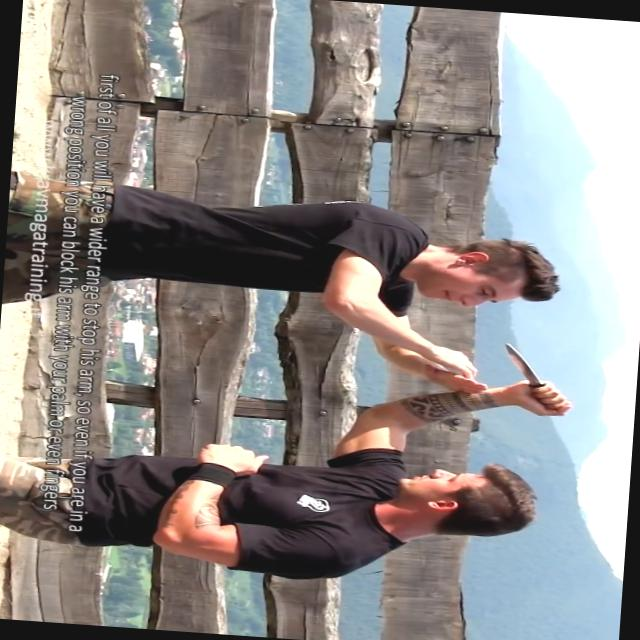knife: (490, 337, 582, 419)
